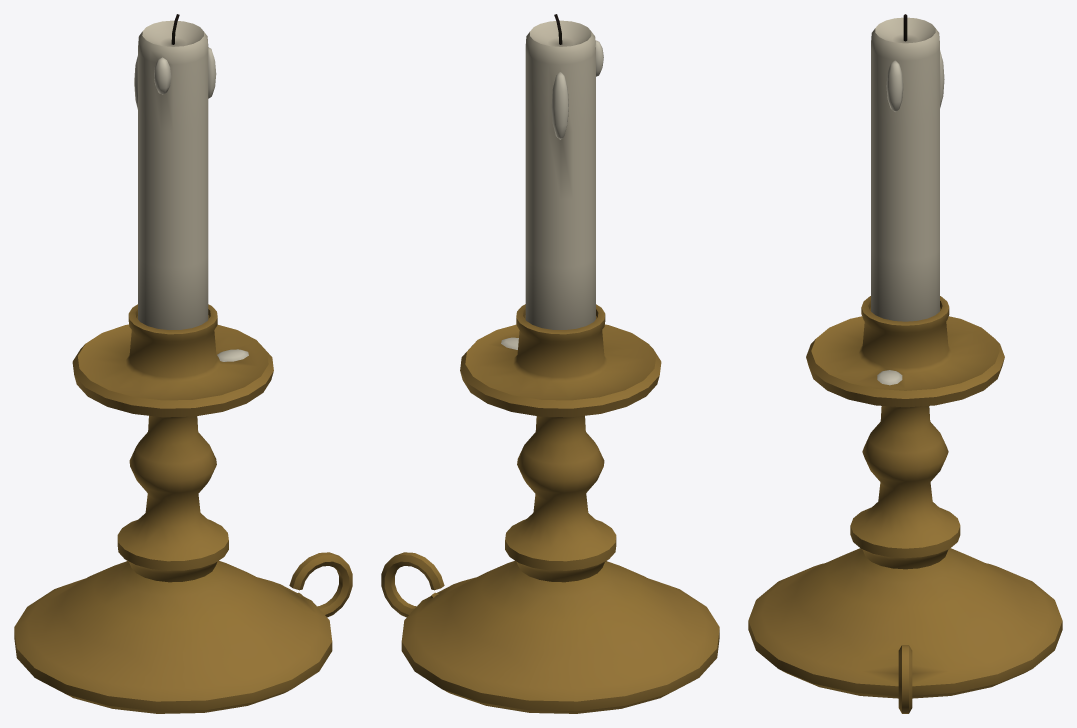
Rendered from lamp-candle.glb.
The picture shows the model from 3 angles, left to right: view 1: azimuth 30°, elevation 25°; view 2: azimuth 150°, elevation 25°; view 3: azimuth 270°, elevation 25°; orthographic projection.
Parts seen in each view (by area): view 1: base; view 2: base; view 3: base.
Part boxes in pixels (x1,y1,x2,y2): base: (14, 14, 352, 713); base: (381, 14, 719, 713); base: (748, 14, 1062, 713).
Size of the model in its own units: 0.137 by 0.2645 by 0.12.
